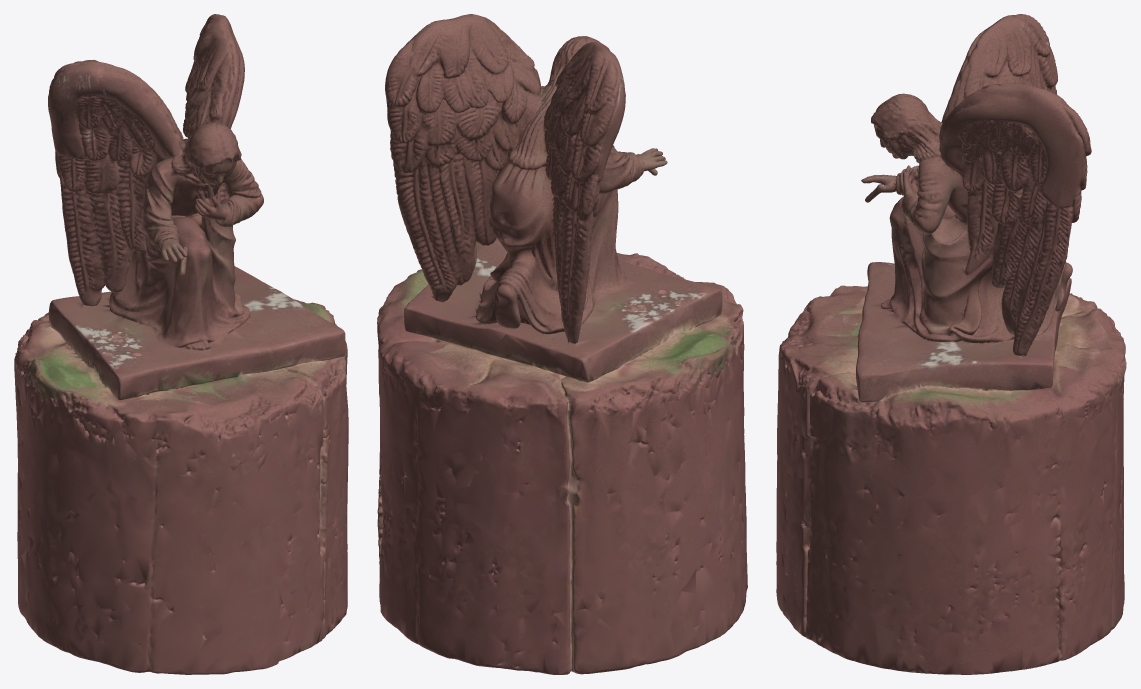
Rendered from angel_de_rodillas.glb.
The picture shows the model from 3 angles, left to right: view 1: azimuth 30°, elevation 25°; view 2: azimuth 150°, elevation 25°; view 3: azimuth 270°, elevation 25°; orthographic projection. The views are drawn at different scales.
Bounding box in the file's own units: 1.07 × 1.9 × 1.08.
1 material, 1 textured.
